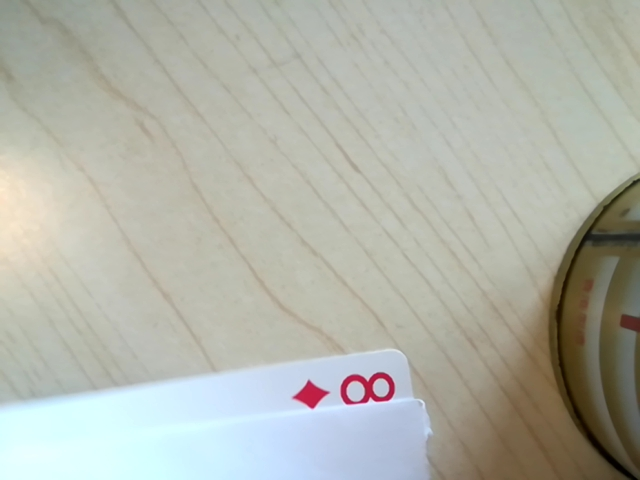fk 8: (287, 365, 409, 420)
